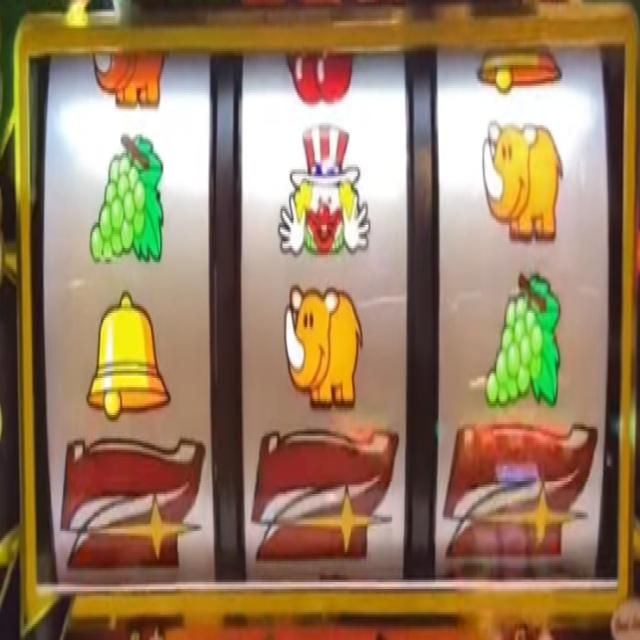bell: (85, 290, 171, 418), (475, 49, 561, 89)
cherry: (283, 52, 353, 105)
clown: (276, 128, 371, 265)
display: (25, 32, 620, 584)
elephant: (480, 118, 565, 245), (284, 288, 366, 411), (92, 50, 168, 106)
grape: (484, 265, 564, 406), (90, 133, 167, 266)
z: (446, 422, 598, 566), (59, 435, 202, 576), (250, 433, 398, 563)
